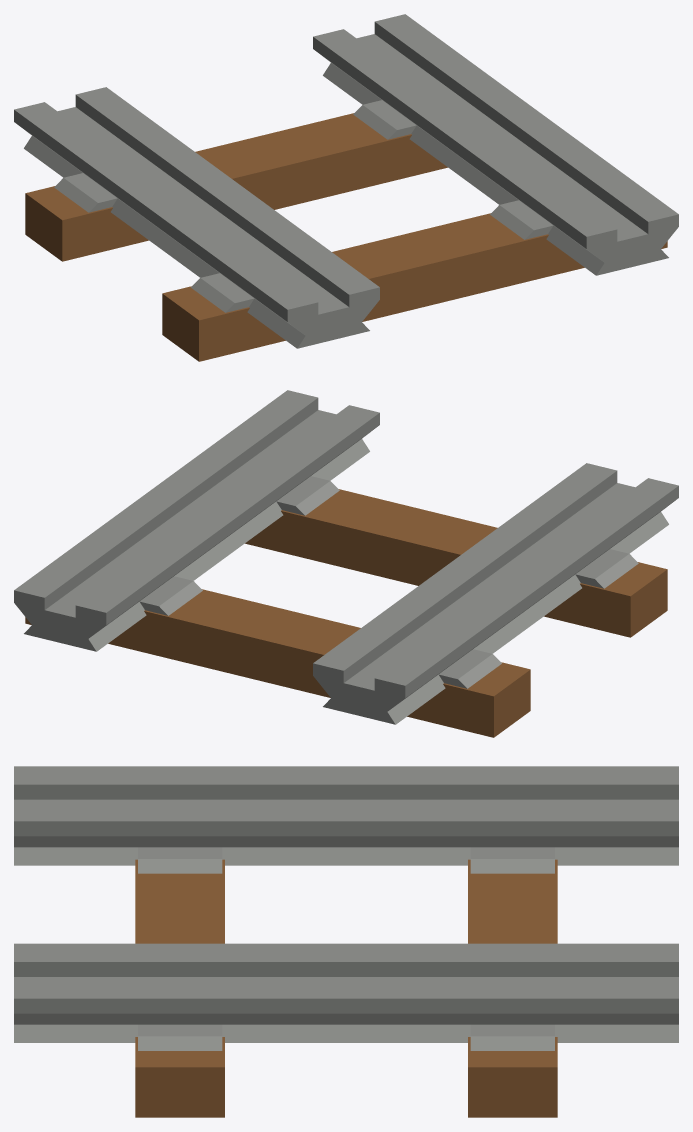
File: normal_straight_track.fbx
3 renders of one model, top to bottom at view 1: azimuth 30°, elevation 25°; view 2: azimuth 150°, elevation 25°; view 3: azimuth 270°, elevation 25°, orthographic. The views are drawn at different scales.
Visible parts, largest first — view 1: Cube.017; view 2: Cube.017; view 3: Cube.017.
Part boxes in pixels (<box>): Cube.017: <box>14,14,678,361</box>; Cube.017: <box>14,390,678,737</box>; Cube.017: <box>14,766,678,1117</box>.
Size of the model in its own units: 198 by 31.94 by 200.
